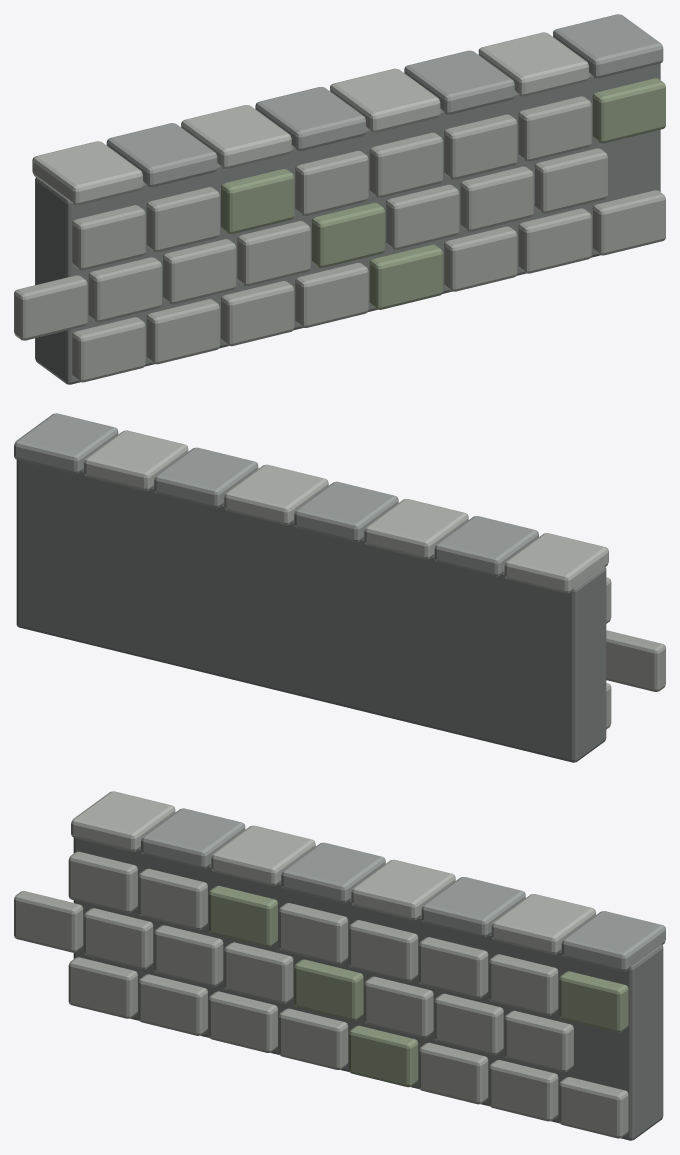
File: retaining_wall_4x1p2.glb
3 views of the same model, one above another, from view 1: azimuth 30°, elevation 25°; view 2: azimuth 150°, elevation 25°; view 3: azimuth 330°, elevation 25° (orthographic). The views are drawn at different scales.
Visible parts, largest first — view 1: retaining_4m_core, retaining_4m_cap_01, retaining_4m_cap_02, retaining_4m_cap_08, retaining_4m_cap_03, retaining_4m_cap_05, retaining_4m_cap_07, retaining_4m_cap_06, retaining_4m_cap_04, retaining_4m_face_02_08, retaining_4m_face_03_07, retaining_4m_face_01_07 (+21 smaller); view 2: retaining_4m_core, retaining_4m_cap_01, retaining_4m_cap_02, retaining_4m_cap_05, retaining_4m_cap_04, retaining_4m_cap_03, retaining_4m_cap_06, retaining_4m_cap_07, retaining_4m_cap_08, retaining_4m_face_02_08; view 3: retaining_4m_core, retaining_4m_cap_08, retaining_4m_cap_04, retaining_4m_cap_05, retaining_4m_cap_03, retaining_4m_cap_06, retaining_4m_cap_07, retaining_4m_cap_01, retaining_4m_cap_02, retaining_4m_face_02_08, retaining_4m_face_01_01, retaining_4m_face_03_06 (+21 smaller).
Part boxes in pixels (<box>): retaining_4m_core: <box>35,63,660,384</box>; retaining_4m_cap_01: <box>32,141,142,205</box>; retaining_4m_cap_02: <box>106,123,217,187</box>; retaining_4m_cap_08: <box>553,14,663,78</box>; retaining_4m_cap_03: <box>181,105,291,169</box>; retaining_4m_cap_05: <box>330,68,440,132</box>; retaining_4m_cap_07: <box>478,32,588,96</box>; retaining_4m_cap_06: <box>404,50,514,114</box>; retaining_4m_cap_04: <box>255,87,365,150</box>; retaining_4m_face_02_08: <box>14,275,87,340</box>; retaining_4m_face_03_07: <box>518,96,591,161</box>; retaining_4m_face_01_07: <box>518,208,591,273</box>; retaining_4m_core: <box>16,460,606,762</box>; retaining_4m_cap_01: <box>504,533,608,593</box>; retaining_4m_cap_02: <box>434,516,538,576</box>; retaining_4m_cap_05: <box>224,464,328,525</box>; retaining_4m_cap_04: <box>294,481,398,542</box>; retaining_4m_cap_03: <box>364,499,468,559</box>; retaining_4m_cap_06: <box>154,447,258,508</box>; retaining_4m_cap_07: <box>84,430,188,490</box>; retaining_4m_cap_08: <box>14,413,118,473</box>; retaining_4m_face_02_08: <box>606,630,665,691</box>; retaining_4m_core: <box>73,838,663,1140</box>; retaining_4m_cap_08: <box>561,911,665,971</box>; retaining_4m_cap_04: <box>281,842,385,903</box>; retaining_4m_cap_05: <box>351,859,455,920</box>; retaining_4m_cap_03: <box>211,825,315,886</box>; retaining_4m_cap_06: <box>421,877,525,937</box>; retaining_4m_cap_07: <box>491,894,595,954</box>; retaining_4m_cap_01: <box>71,791,175,851</box>; retaining_4m_cap_02: <box>141,808,245,868</box>; retaining_4m_face_02_08: <box>14,891,83,952</box>; retaining_4m_face_01_01: <box>68,957,137,1018</box>; retaining_4m_face_03_06: <box>419,937,488,998</box>.
Bounding box in the file's own units: 4.37 × 1.3 × 0.565.
